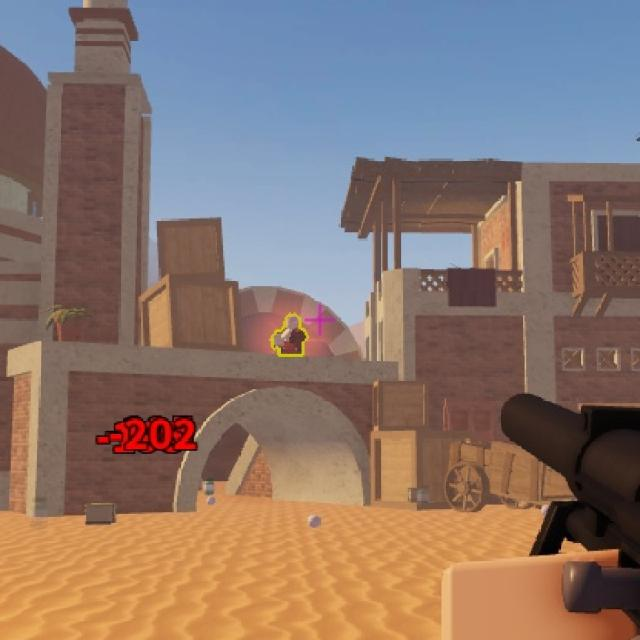player: (272, 314, 308, 359)
